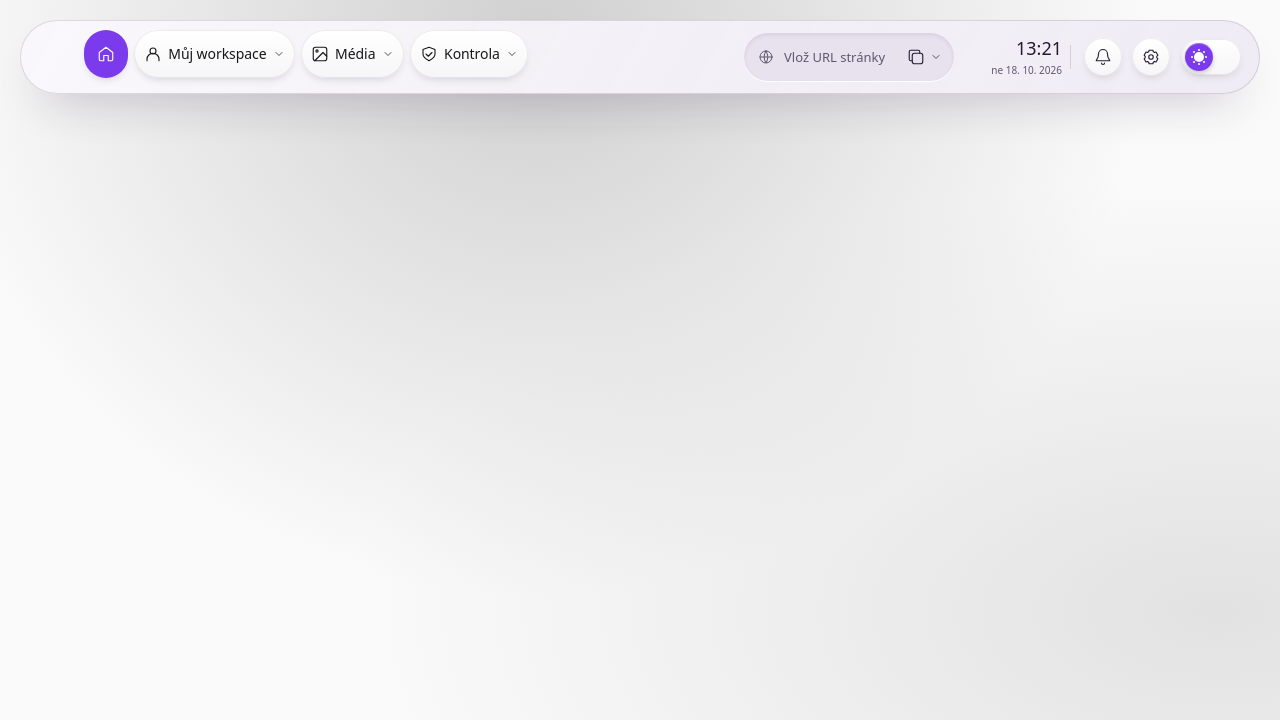
production settings use an in-page select and preserve existing preference keys with nested Escape
The width and height of the screenshot is (1280, 720).
Click the button named "Nastavení".
click(1151, 57)  # box [1129,35,1173,79]
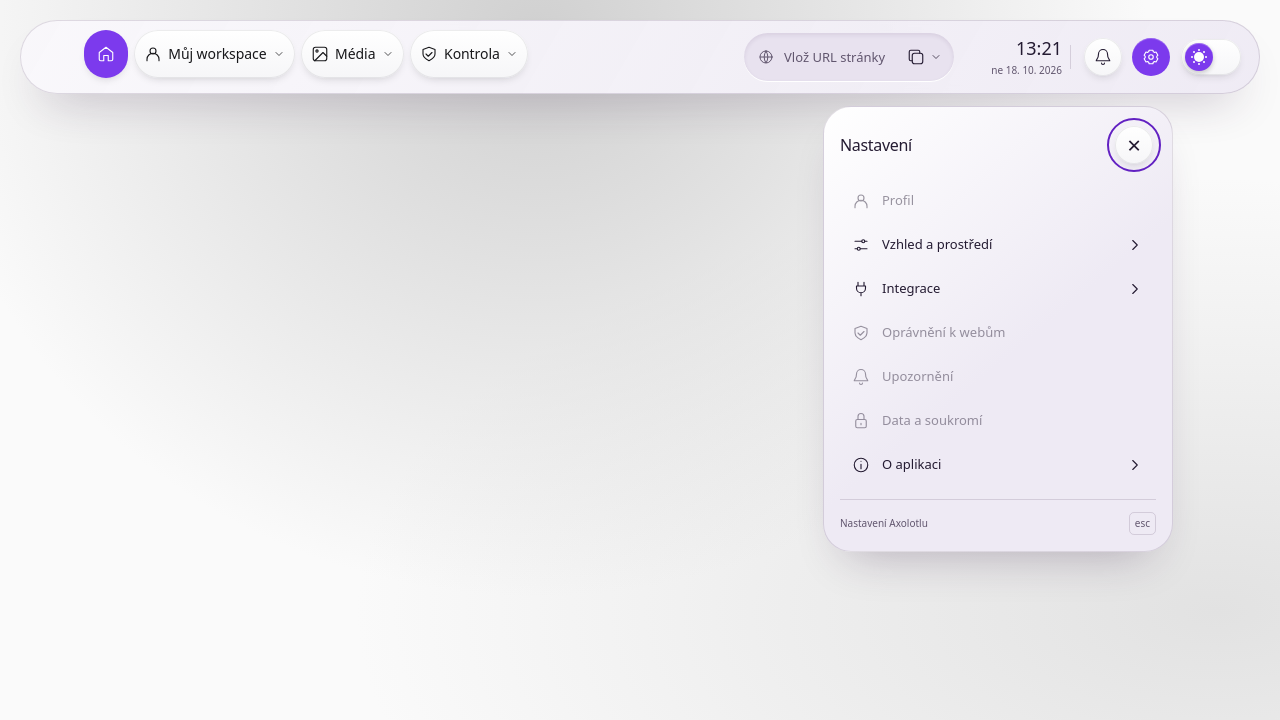
Click the button "Vzhled a prostředí".
click(937, 244)  # box [840,223,1156,267]
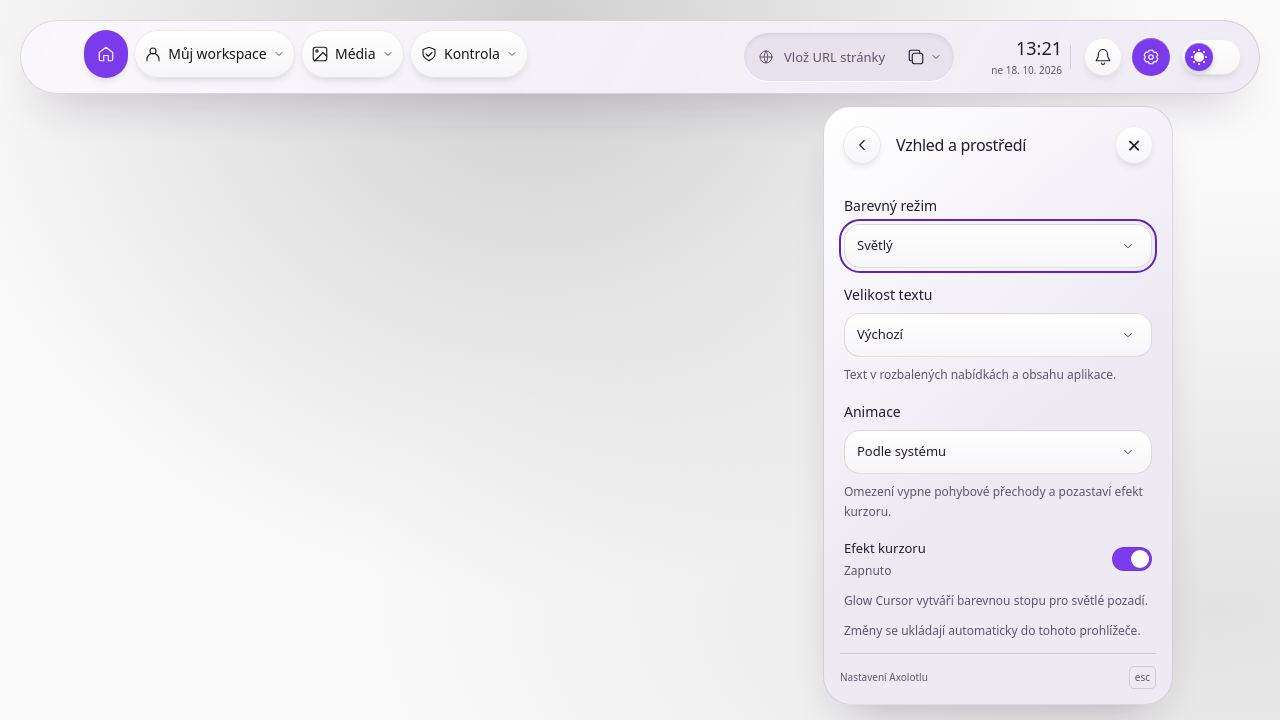
Press Enter
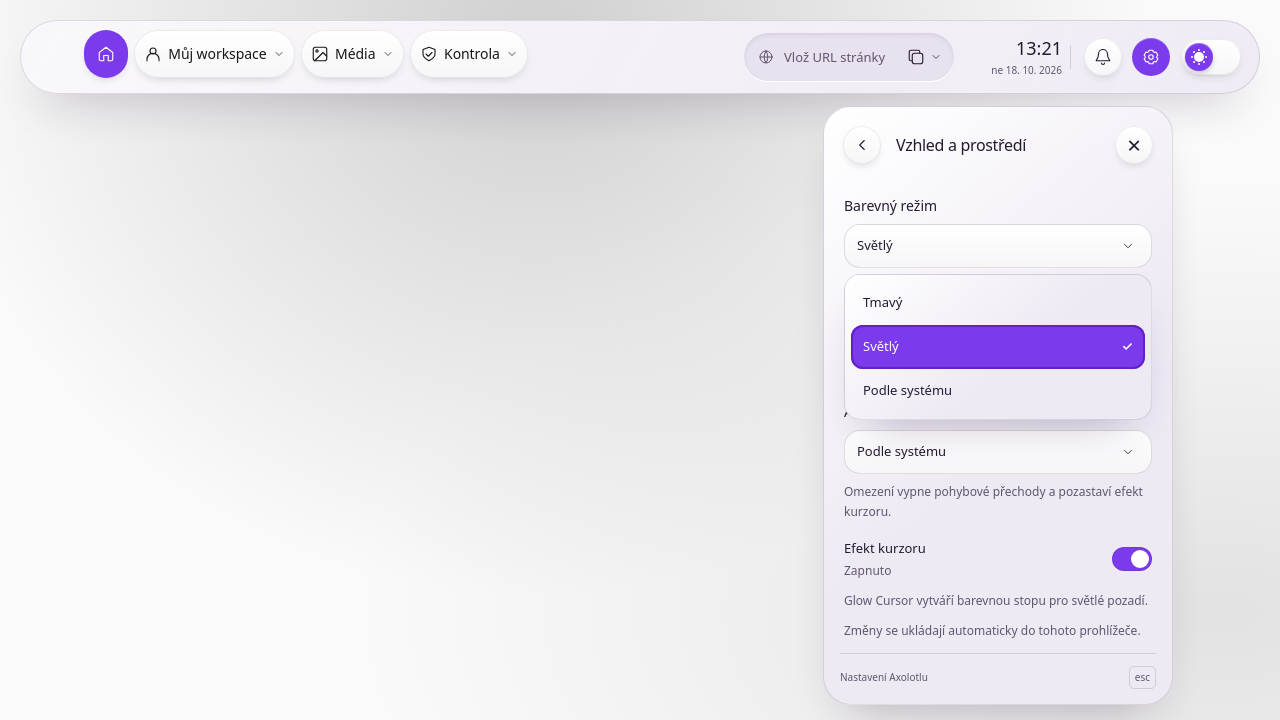
Expected: the list named "Barevný režim" is shown, [844,274,1152,420]
Click the option "Tmavý".
click(883, 302)  # box [863,293,902,311]
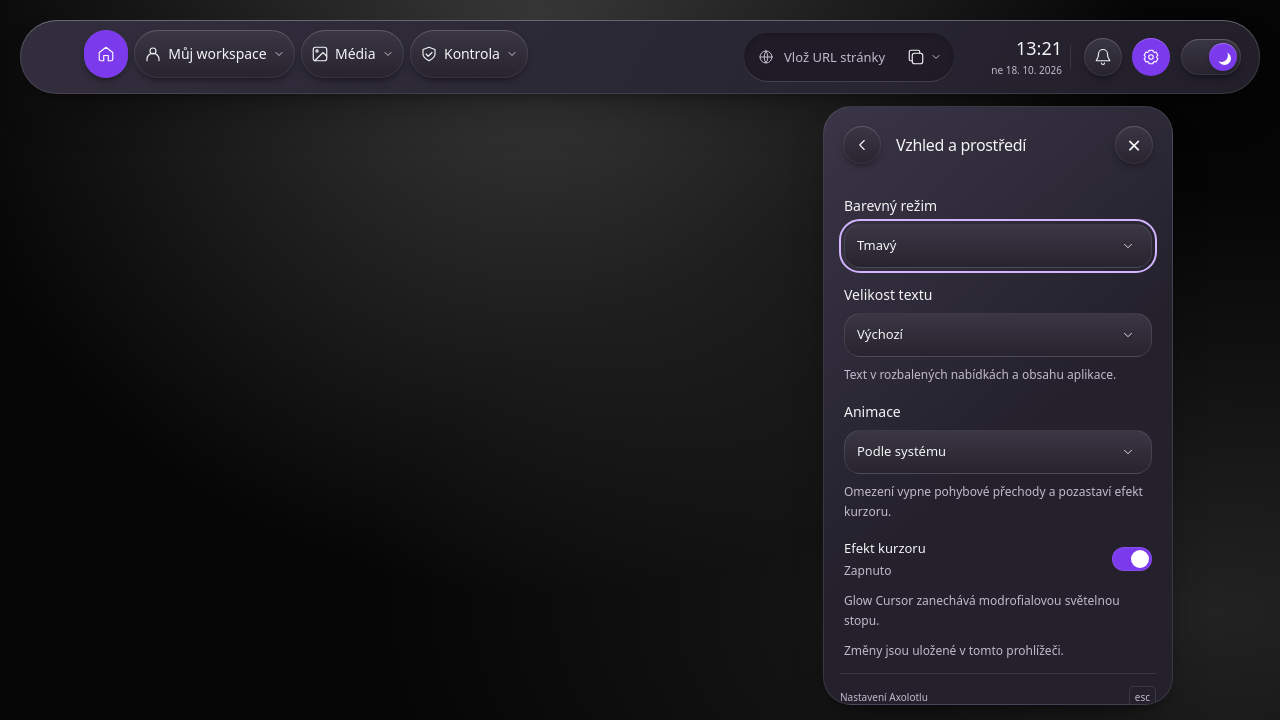
Press Enter Escape
Expected: the list "Tmavý Světlý ✓ Podle systému" is not shown
Expected: the dialog named "Nastavení" is shown, [823,106,1173,704]
Press Escape
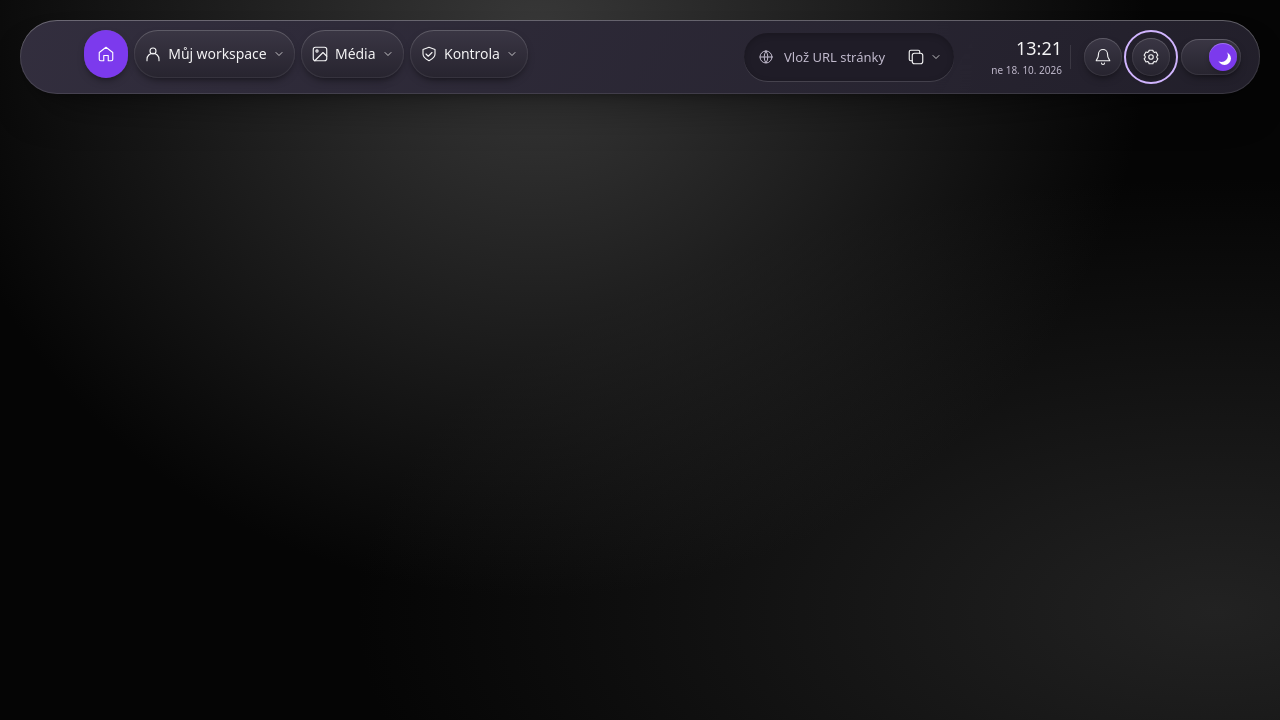
Expected: the dialog "Nastavení" is gone
